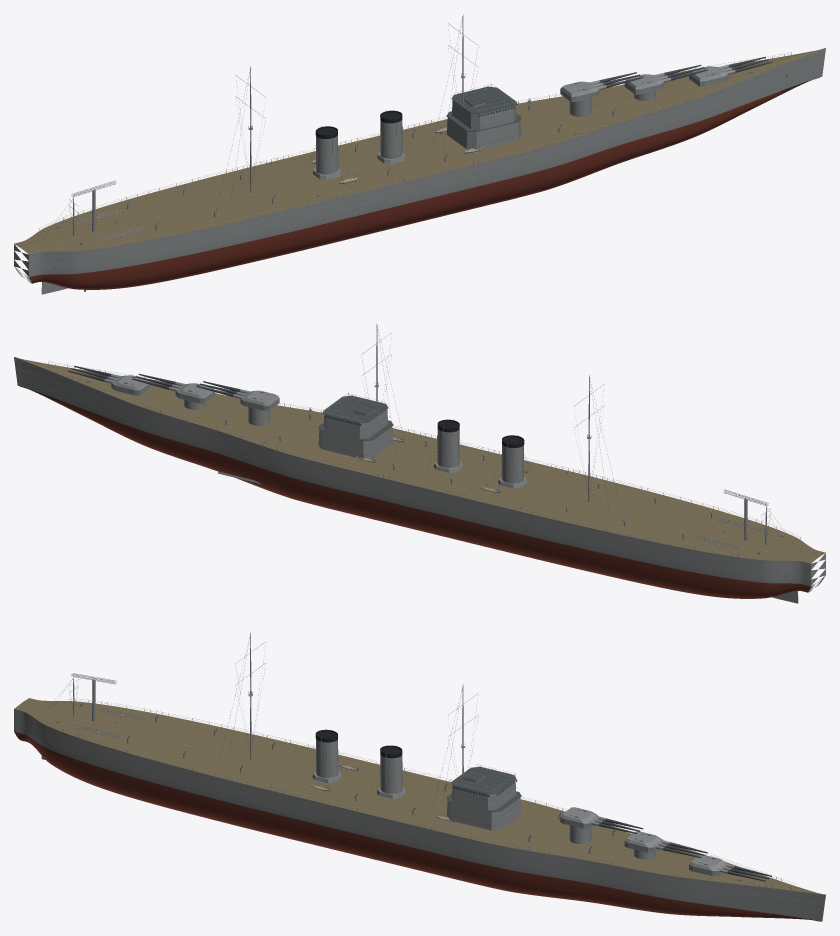
Rendered from incomparable_bc31.glb.
3 renders of one model, top to bottom at view 1: azimuth 30°, elevation 25°; view 2: azimuth 150°, elevation 25°; view 3: azimuth 330°, elevation 25°, orthographic.
Visible parts, largest first — view 1: Incomparable class; view 2: Incomparable class; view 3: Incomparable class.
Boxes of the visible parts, <box> form: Incomparable class: <box>14,14,825,294</box>; Incomparable class: <box>14,323,825,603</box>; Incomparable class: <box>14,632,825,921</box>.
Bounding box in the file's own units: 285 × 60.94 × 33.09.
9 materials, 8 textured.
